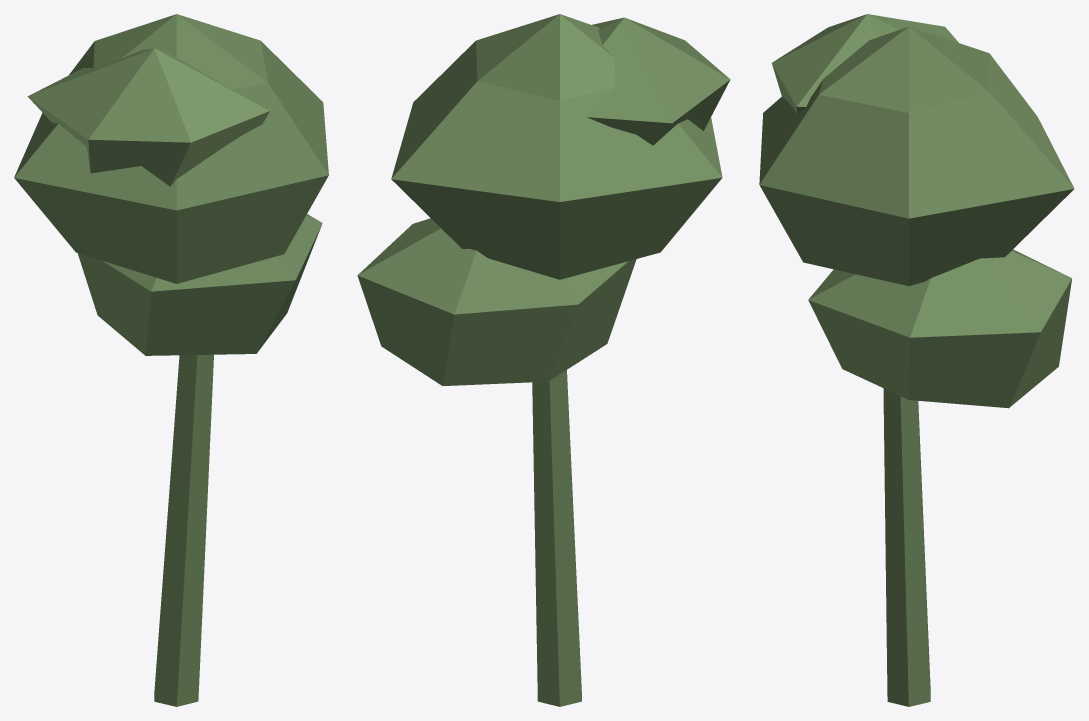
Rendered from tree_broadleaf_tall.glb.
3 renders of one model, left to right at view 1: azimuth 30°, elevation 25°; view 2: azimuth 150°, elevation 25°; view 3: azimuth 270°, elevation 25°, orthographic.
Visible parts, largest first — view 1: tree_broadleaf_tall; view 2: tree_broadleaf_tall; view 3: tree_broadleaf_tall.
Boxes of the visible parts, x1,y1,x2,y2 form: tree_broadleaf_tall: (14,14,328,706); tree_broadleaf_tall: (357,14,730,706); tree_broadleaf_tall: (759,14,1074,706).
Bounding box in the file's own units: 4.49 × 9.47 × 4.04.
